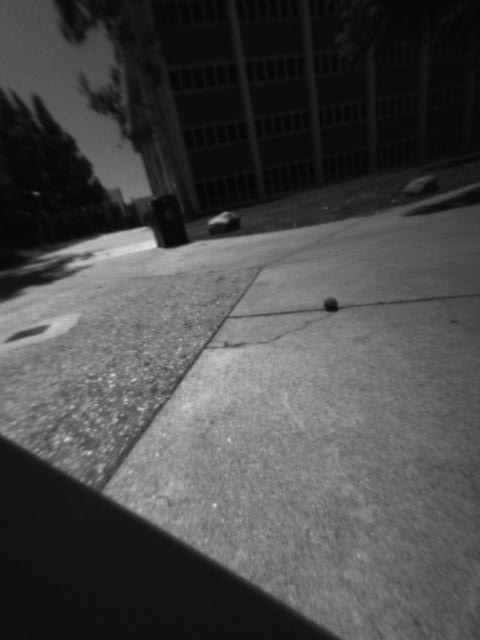dogtoy: (314, 290, 350, 321)
